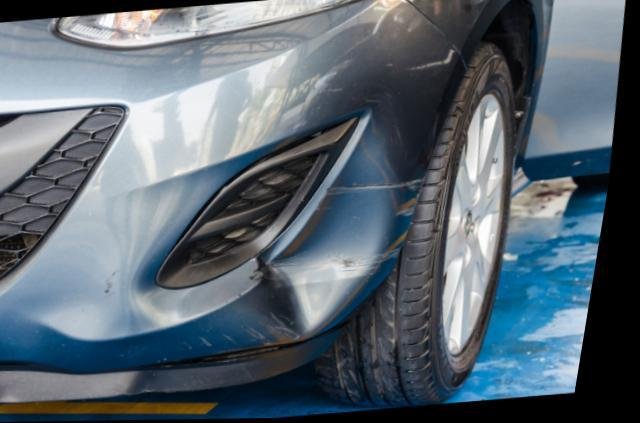dent: (247, 120, 398, 336)
scratch: (383, 177, 430, 264), (199, 324, 274, 347)
